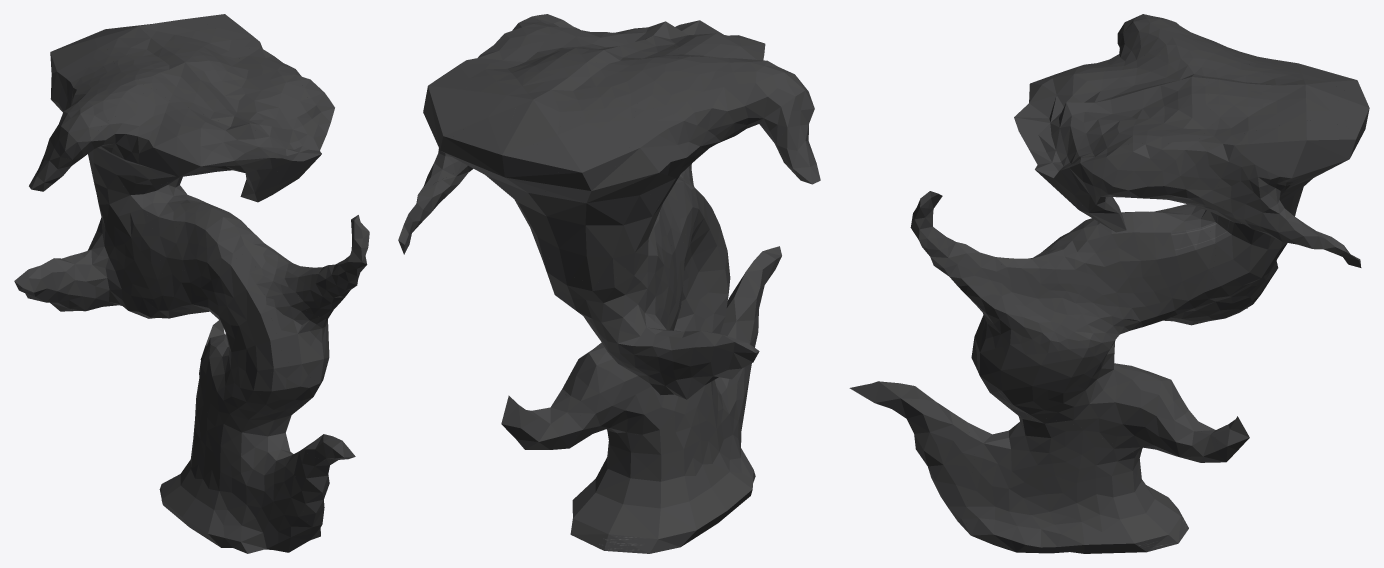
Rendered from Kolonna4.fbx.
3 renders of one model, left to right at view 1: azimuth 30°, elevation 25°; view 2: azimuth 150°, elevation 25°; view 3: azimuth 270°, elevation 25°, orthographic. The views are drawn at different scales.
Visible parts, largest first — view 1: Cube.003_cell.027, Cube.003_cell.017, Cube.003_cell.024, Cube.003_cell.010, Cube.003_cell.021, Cube.003_cell.008, Cube.003_cell.019, Cube.003_cell.032, Cube.003_cell.009, Cube.003_cell.011, Cube.003_cell.004, Cube.003_cell.025 (+15 smaller); view 2: Cube.003_cell.027, Cube.003_cell.024, Cube.003_cell.017, Cube.003_cell.012, Cube.003_cell.019, Cube.003_cell.016, Cube.003_cell.014, Cube.003_cell.009, Cube.003_cell, Cube.003_cell.021, Cube.003_cell.026, Cube.003_cell.002 (+8 smaller); view 3: Cube.003_cell.027, Cube.003_cell.008, Cube.003_cell.029, Cube.003_cell.026, Cube.003_cell.021, Cube.003_cell.017, Cube.003_cell.022, Cube.003_cell.024, Cube.003_cell.009, Cube.003_cell.004, Cube.003_cell.010, Cube.003_cell.011 (+10 smaller).
Boxes of the visible parts, left/top/right/bottom form: Cube.003_cell.027: left=159, top=394, right=320, bottom=553; Cube.003_cell.017: left=151, top=250, right=279, bottom=417; Cube.003_cell.024: left=40, top=176, right=186, bottom=318; Cube.003_cell.010: left=79, top=99, right=288, bottom=176; Cube.003_cell.021: left=156, top=54, right=308, bottom=178; Cube.003_cell.008: left=249, top=239, right=331, bottom=390; Cube.003_cell.019: left=47, top=67, right=146, bottom=158; Cube.003_cell.032: left=159, top=218, right=250, bottom=273; Cube.003_cell.009: left=122, top=18, right=255, bottom=61; Cube.003_cell.011: left=297, top=215, right=369, bottom=316; Cube.003_cell.004: left=295, top=441, right=344, bottom=532; Cube.003_cell.025: left=283, top=92, right=334, bottom=169; Cube.003_cell.027: left=570, top=309, right=755, bottom=553; Cube.003_cell.024: left=535, top=217, right=728, bottom=399; Cube.003_cell.017: left=561, top=178, right=729, bottom=448; Cube.003_cell.012: left=539, top=165, right=661, bottom=283; Cube.003_cell.019: left=635, top=56, right=814, bottom=136; Cube.003_cell.016: left=617, top=103, right=804, bottom=201; Cube.003_cell.014: left=398, top=128, right=547, bottom=254; Cube.003_cell.009: left=465, top=54, right=616, bottom=135; Cube.003_cell: left=536, top=98, right=637, bottom=177; Cube.003_cell.021: left=498, top=21, right=680, bottom=63; Cube.003_cell.026: left=419, top=54, right=491, bottom=193; Cube.003_cell.002: left=507, top=91, right=623, bottom=145; Cube.003_cell.027: left=953, top=407, right=1188, bottom=553; Cube.003_cell.008: left=973, top=237, right=1122, bottom=424; Cube.003_cell.029: left=1079, top=211, right=1216, bottom=333; Cube.003_cell.026: left=1209, top=120, right=1357, bottom=244; Cube.003_cell.021: left=1041, top=59, right=1212, bottom=199; Cube.003_cell.017: left=1041, top=235, right=1200, bottom=462; Cube.003_cell.022: left=1068, top=143, right=1223, bottom=212; Cube.003_cell.024: left=1167, top=204, right=1287, bottom=325; Cube.003_cell.009: left=1208, top=67, right=1348, bottom=139; Cube.003_cell.004: left=881, top=398, right=974, bottom=526; Cube.003_cell.010: left=1014, top=30, right=1146, bottom=143; Cube.003_cell.011: left=910, top=191, right=1003, bottom=308.
Bounding box in the file's own units: 85.52 × 126 × 129.
